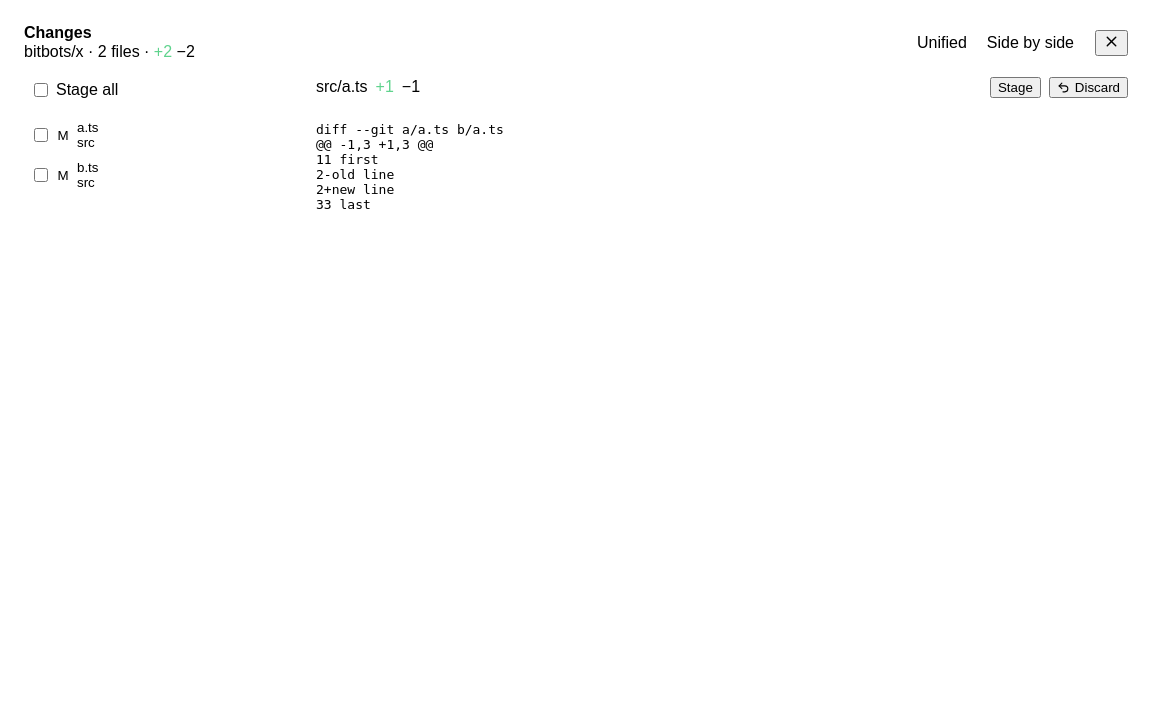
Test case: ChangesView › keeps a refused discard on screen
Click the button "Discard". click: (1088, 87)
box: [1049,76,1128,98]
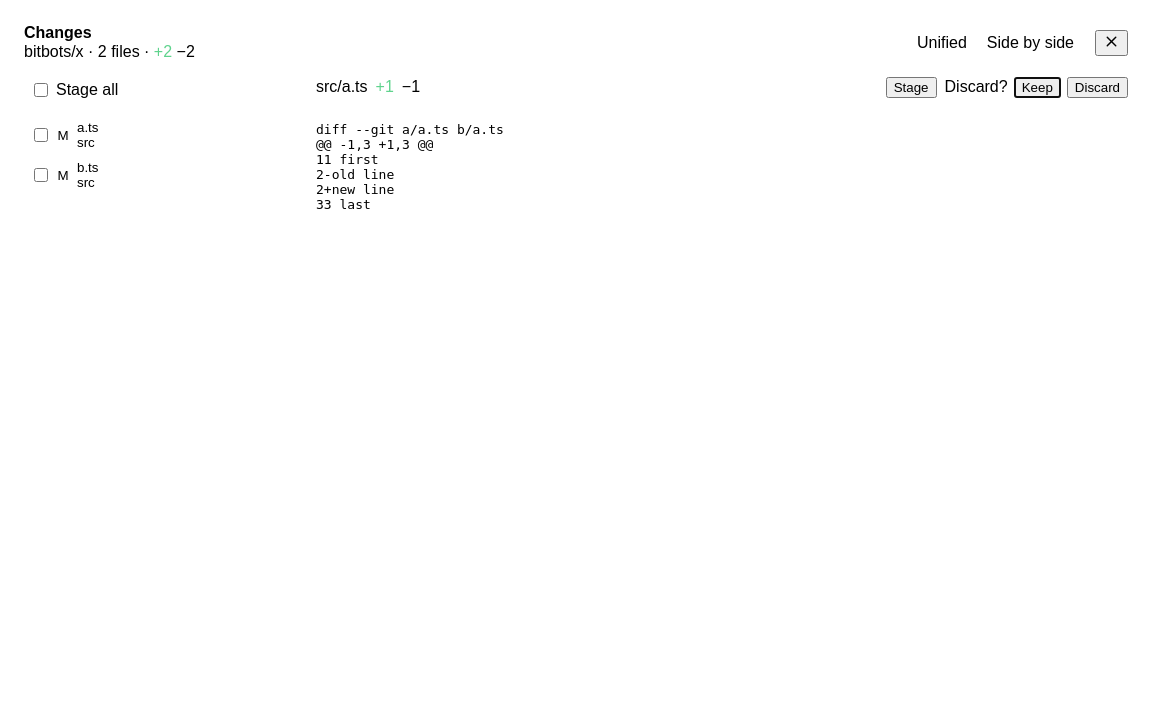
Click the button "Discard". click: (1097, 87)
box: [1067,76,1128,98]
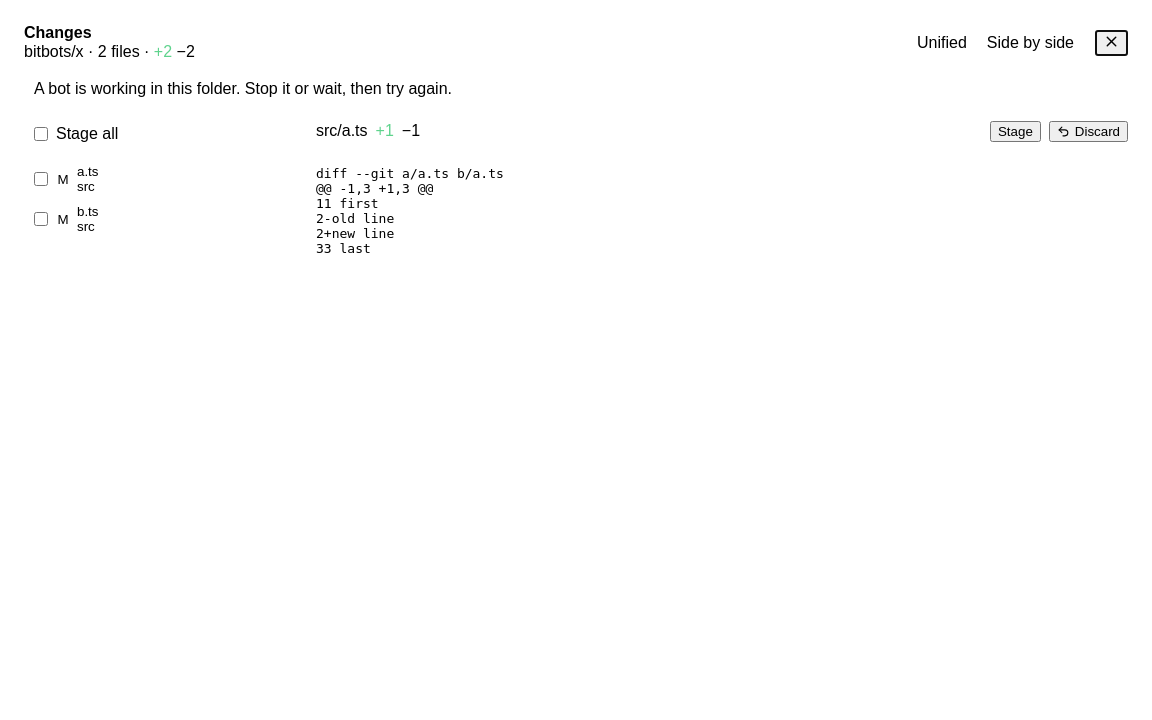
Result: the message with class "changes-error" shows "A bot is working" at [34,80,452,97]
